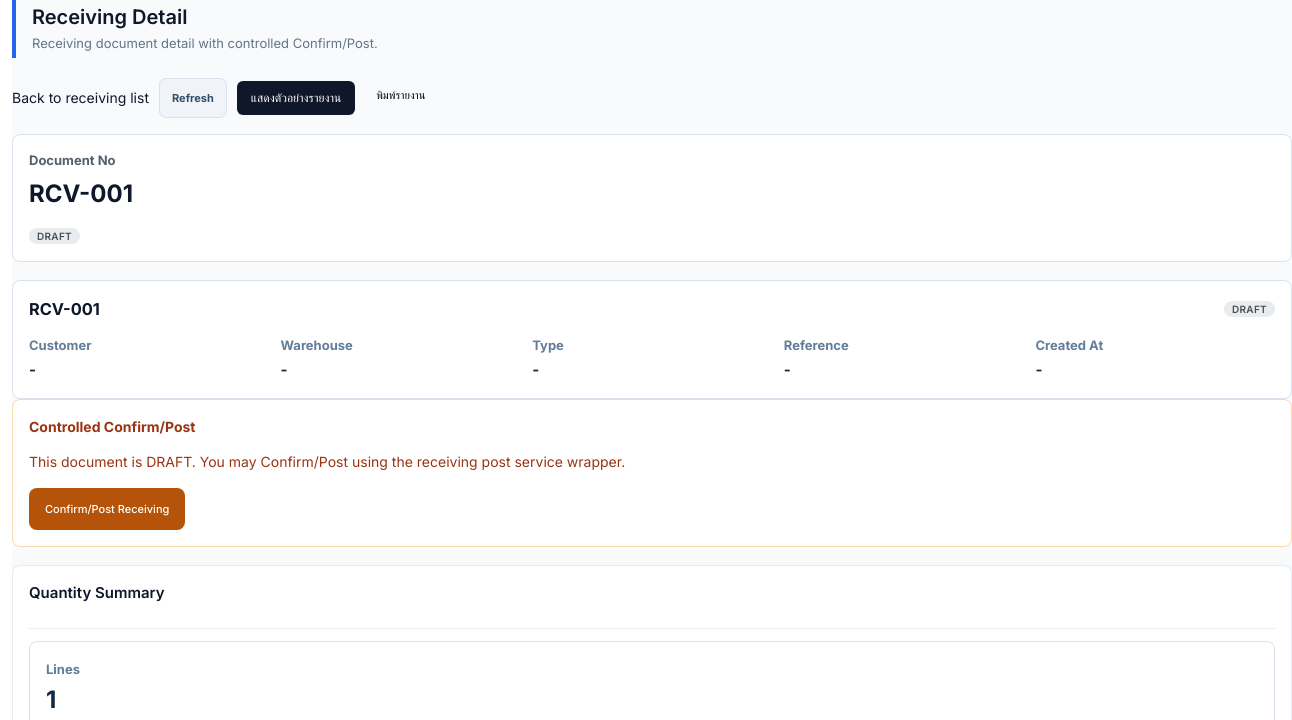
Sprint 13J-AM receiving validation and error handling › ReceivingDetailPage post handling › surfaces RPC errors from postReceivingDocument
Click the button "Confirm/Post Receiving". click: (107, 509)
box: [29, 488, 185, 530]
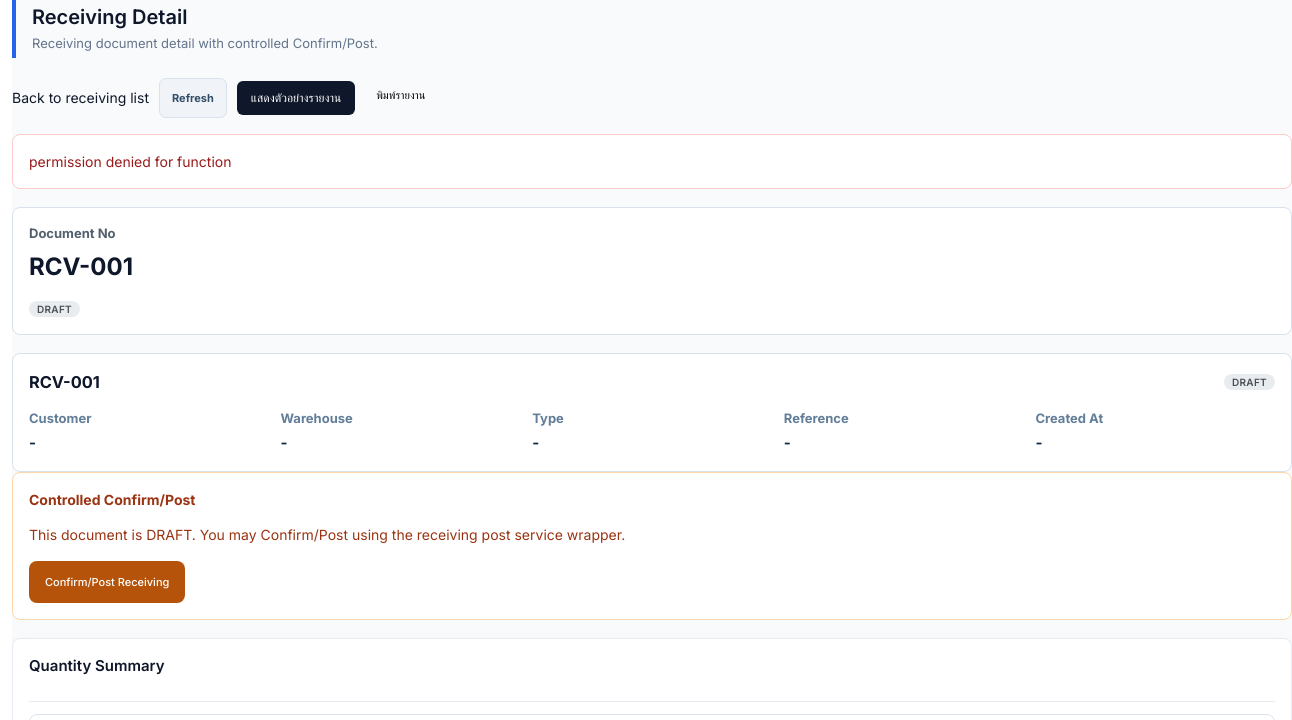
Result: the message reads "permission denied for function" at [29, 152, 232, 170]
